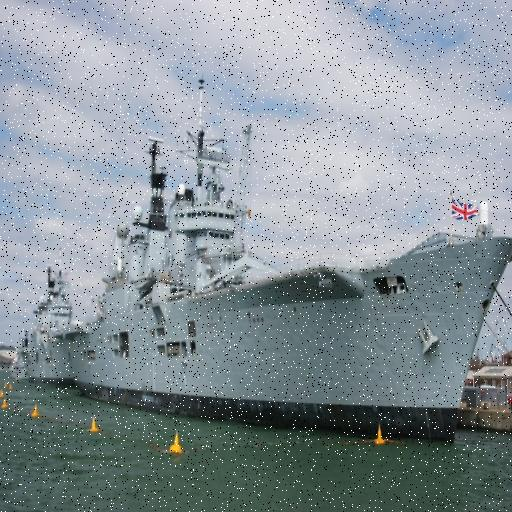Portanaves: (61, 67, 512, 452)
